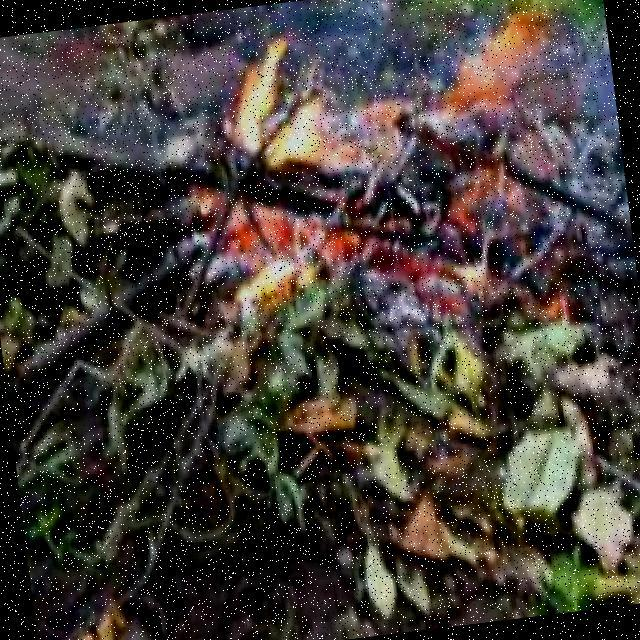Fire: (153, 3, 582, 325)
